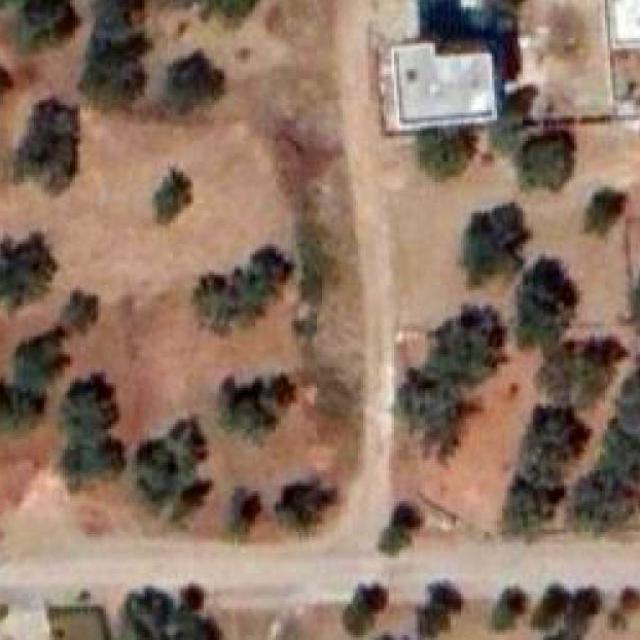Tree: (188, 230, 288, 332), (135, 418, 206, 520), (421, 309, 507, 389), (213, 355, 299, 435), (459, 200, 528, 297), (388, 376, 473, 452), (13, 100, 84, 188), (516, 403, 586, 491), (116, 583, 222, 640), (545, 332, 626, 406), (515, 252, 576, 345), (77, 43, 147, 110), (495, 465, 561, 535), (55, 429, 128, 489), (512, 131, 580, 191), (572, 467, 638, 528), (0, 227, 55, 300), (165, 52, 224, 115), (59, 372, 116, 437), (540, 583, 605, 640), (274, 478, 338, 532), (417, 126, 478, 181), (10, 337, 65, 398), (162, 0, 266, 29), (84, 0, 152, 43), (0, 387, 48, 445), (416, 581, 461, 639), (18, 0, 73, 46), (376, 504, 422, 558), (340, 583, 386, 636), (604, 429, 640, 491), (152, 172, 192, 219), (533, 583, 572, 630), (584, 192, 626, 235), (228, 489, 262, 537), (492, 586, 528, 630), (58, 294, 96, 334), (623, 267, 640, 344), (615, 576, 640, 618), (0, 55, 19, 102)
